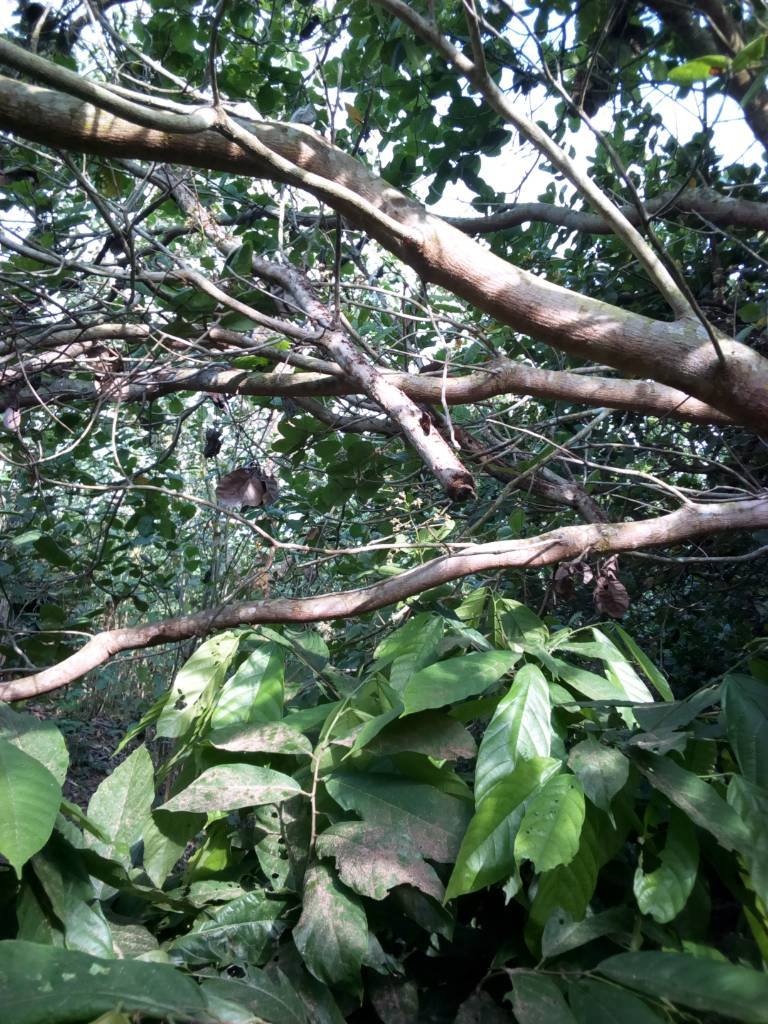Analepse trifasciata: (405, 460, 508, 508)
